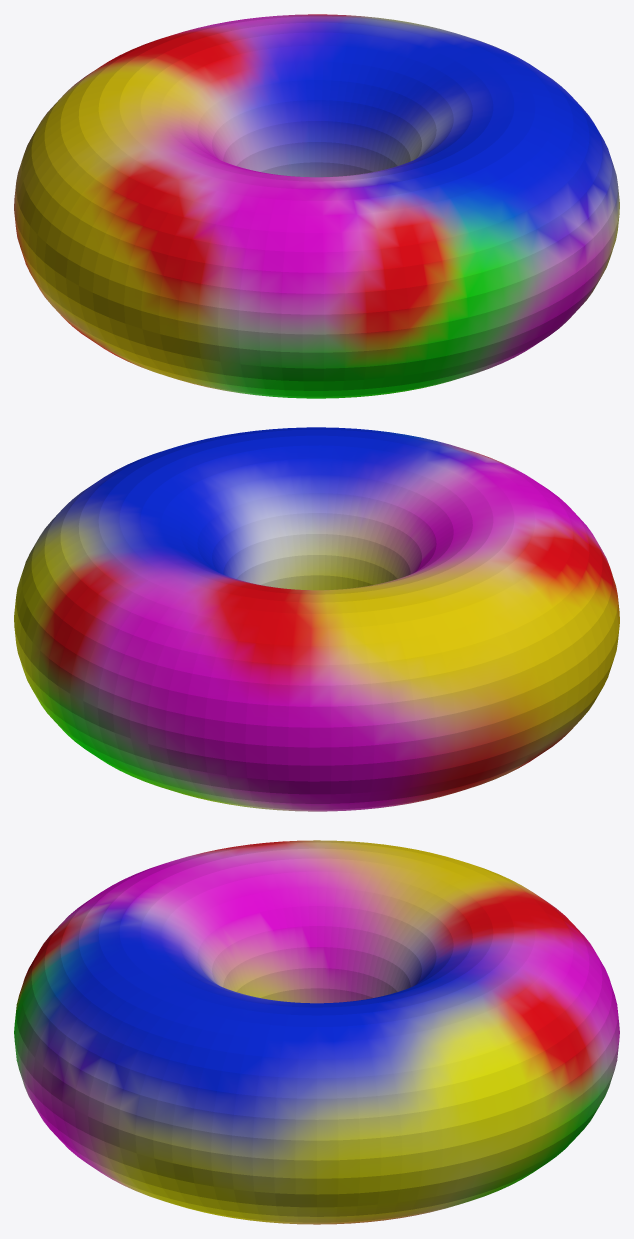
Rendered from torus_custom_property.gltf.
3 views of the same model, one above another, from view 1: azimuth 30°, elevation 25°; view 2: azimuth 150°, elevation 25°; view 3: azimuth 270°, elevation 25° (orthographic).
Parts seen in each view (by area): view 1: Torus; view 2: Torus; view 3: Torus.
Boxes of the visible parts, x1=… form: Torus: x1=14, y1=14, x2=619, y2=398; Torus: x1=14, y1=427, x2=619, y2=811; Torus: x1=14, y1=840, x2=619, y2=1224.
Bounding box in the file's own units: 4.1 × 1.5 × 4.1.
